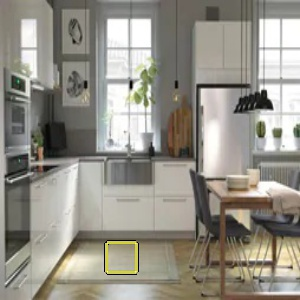square: (103, 239, 140, 277)
